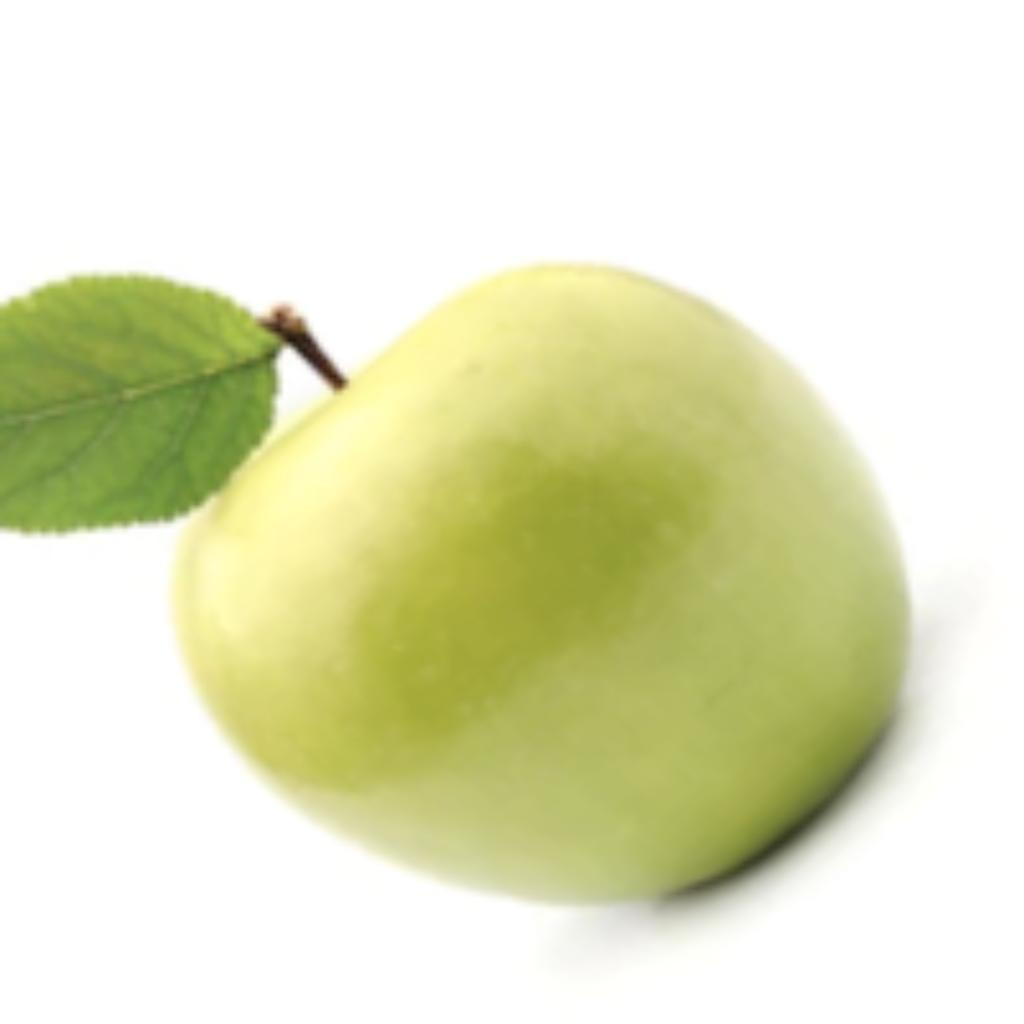apple: (0, 256, 968, 968)
